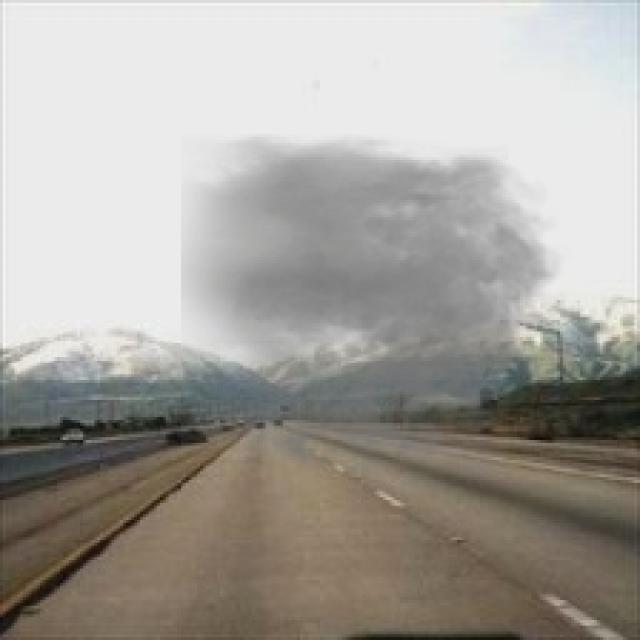smoke: (180, 134, 574, 477)
